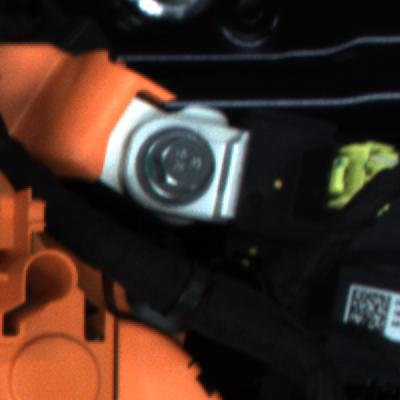nut_b: (140, 118, 221, 211)
